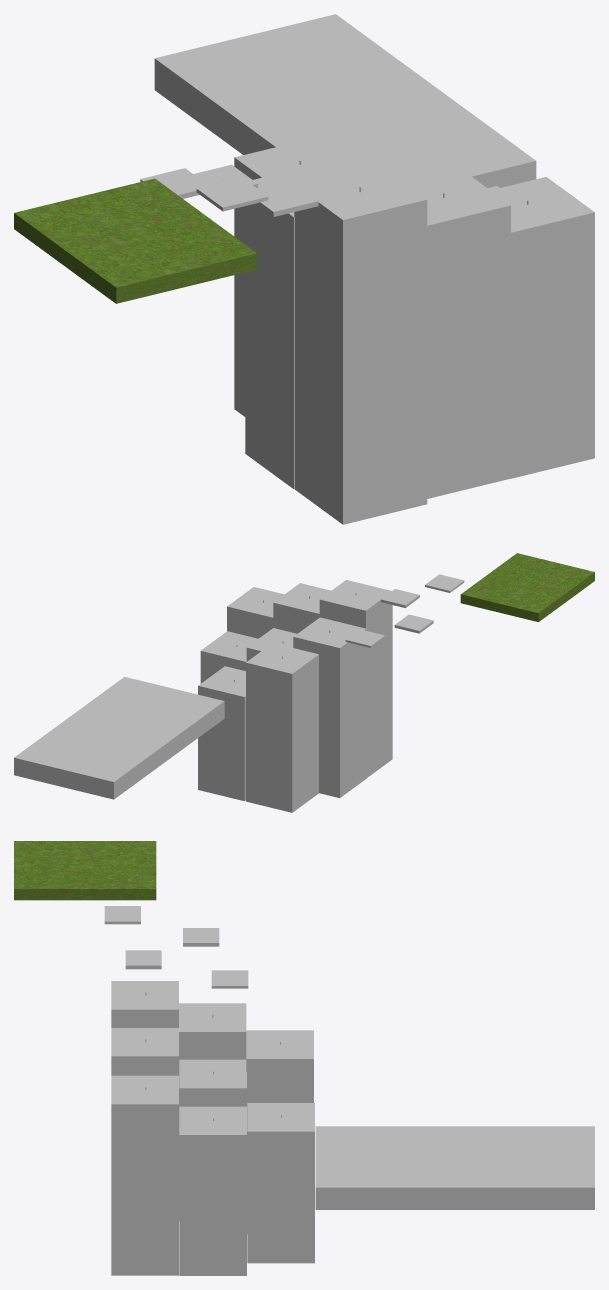
Rendered from Stage01.fbx.
3 renders of one model, top to bottom at view 1: azimuth 30°, elevation 25°; view 2: azimuth 150°, elevation 25°; view 3: azimuth 270°, elevation 25°, orthographic. The views are drawn at different scales.
Visible parts, largest first — view 1: Stage01L, MovingFloor (×2), MovingFloorUpDown (×2); view 2: Stage01L, MovingFloor (×2), MovingFloorUpDown (×2); view 3: Stage01L, MovingFloor (×2), MovingFloorUpDown (×2).
Part boxes in pixels (x1=…): Stage01L: x1=14, y1=14, x2=594, y2=524; MovingFloor (×2): x1=140, y1=168, x2=318, y2=216; MovingFloorUpDown (×2): x1=193, y1=164, x2=268, y2=211; Stage01L: x1=14, y1=553, x2=594, y2=812; MovingFloor (×2): x1=380, y1=589, x2=433, y2=633; MovingFloorUpDown (×2): x1=345, y1=574, x2=464, y2=647; Stage01L: x1=14, y1=841, x2=594, y2=1275; MovingFloor (×2): x1=125, y1=928, x2=219, y2=969; MovingFloorUpDown (×2): x1=104, y1=906, x2=248, y2=988.
Bounding box in the file's own units: 6232 × 3378 × 7068.
